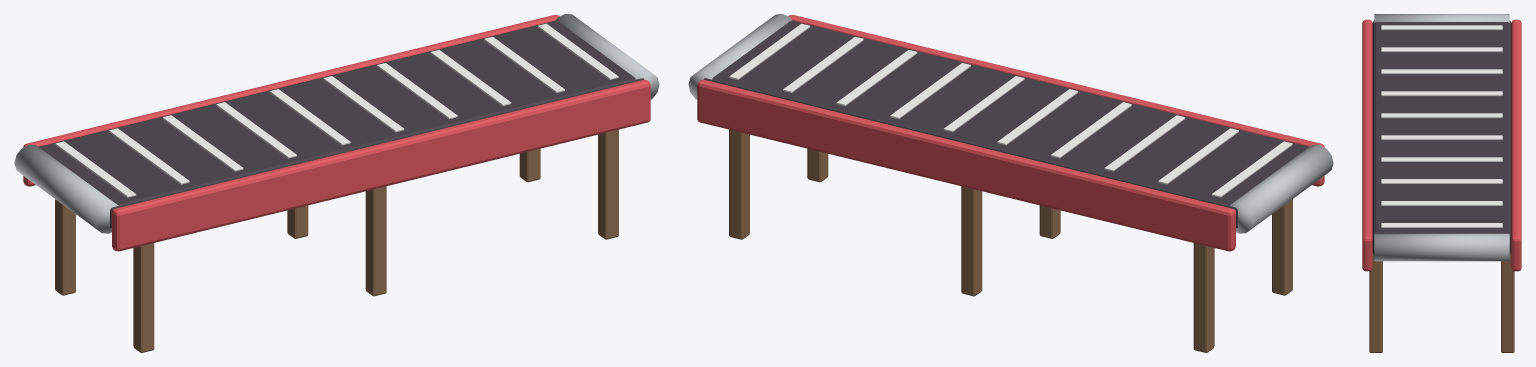
The model's file is Conveyor.fbx.
3 renders of one model, left to right at view 1: azimuth 30°, elevation 25°; view 2: azimuth 150°, elevation 25°; view 3: azimuth 270°, elevation 25°, orthographic. The views are drawn at different scales.
Visible parts, largest first — view 1: Conveyor; view 2: Conveyor; view 3: Conveyor.
Boxes of the visible parts, x1,y1,x2,y2 form: Conveyor: (14,14,659,352); Conveyor: (688,14,1333,352); Conveyor: (1362,14,1521,352).
Bounding box in the file's own units: 316 × 83 × 92.
